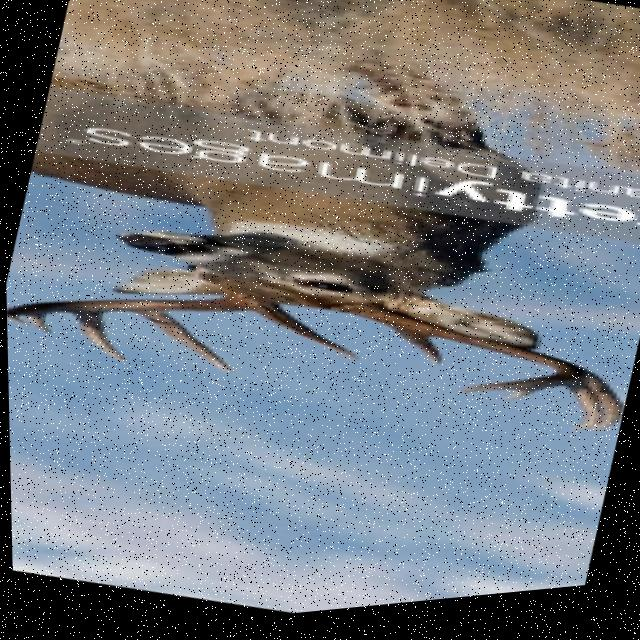L-F: (5, 295, 278, 326)
L-G1: (251, 312, 359, 368)
L-G2: (130, 314, 231, 377)
L-G3: (68, 314, 130, 366)
L-G4: (21, 314, 53, 335)
R-F: (324, 311, 588, 403)
R-G1: (381, 332, 442, 373)
R-G2: (585, 383, 622, 442)
R-G3: (560, 396, 600, 442)
R-G4: (497, 400, 537, 410)
